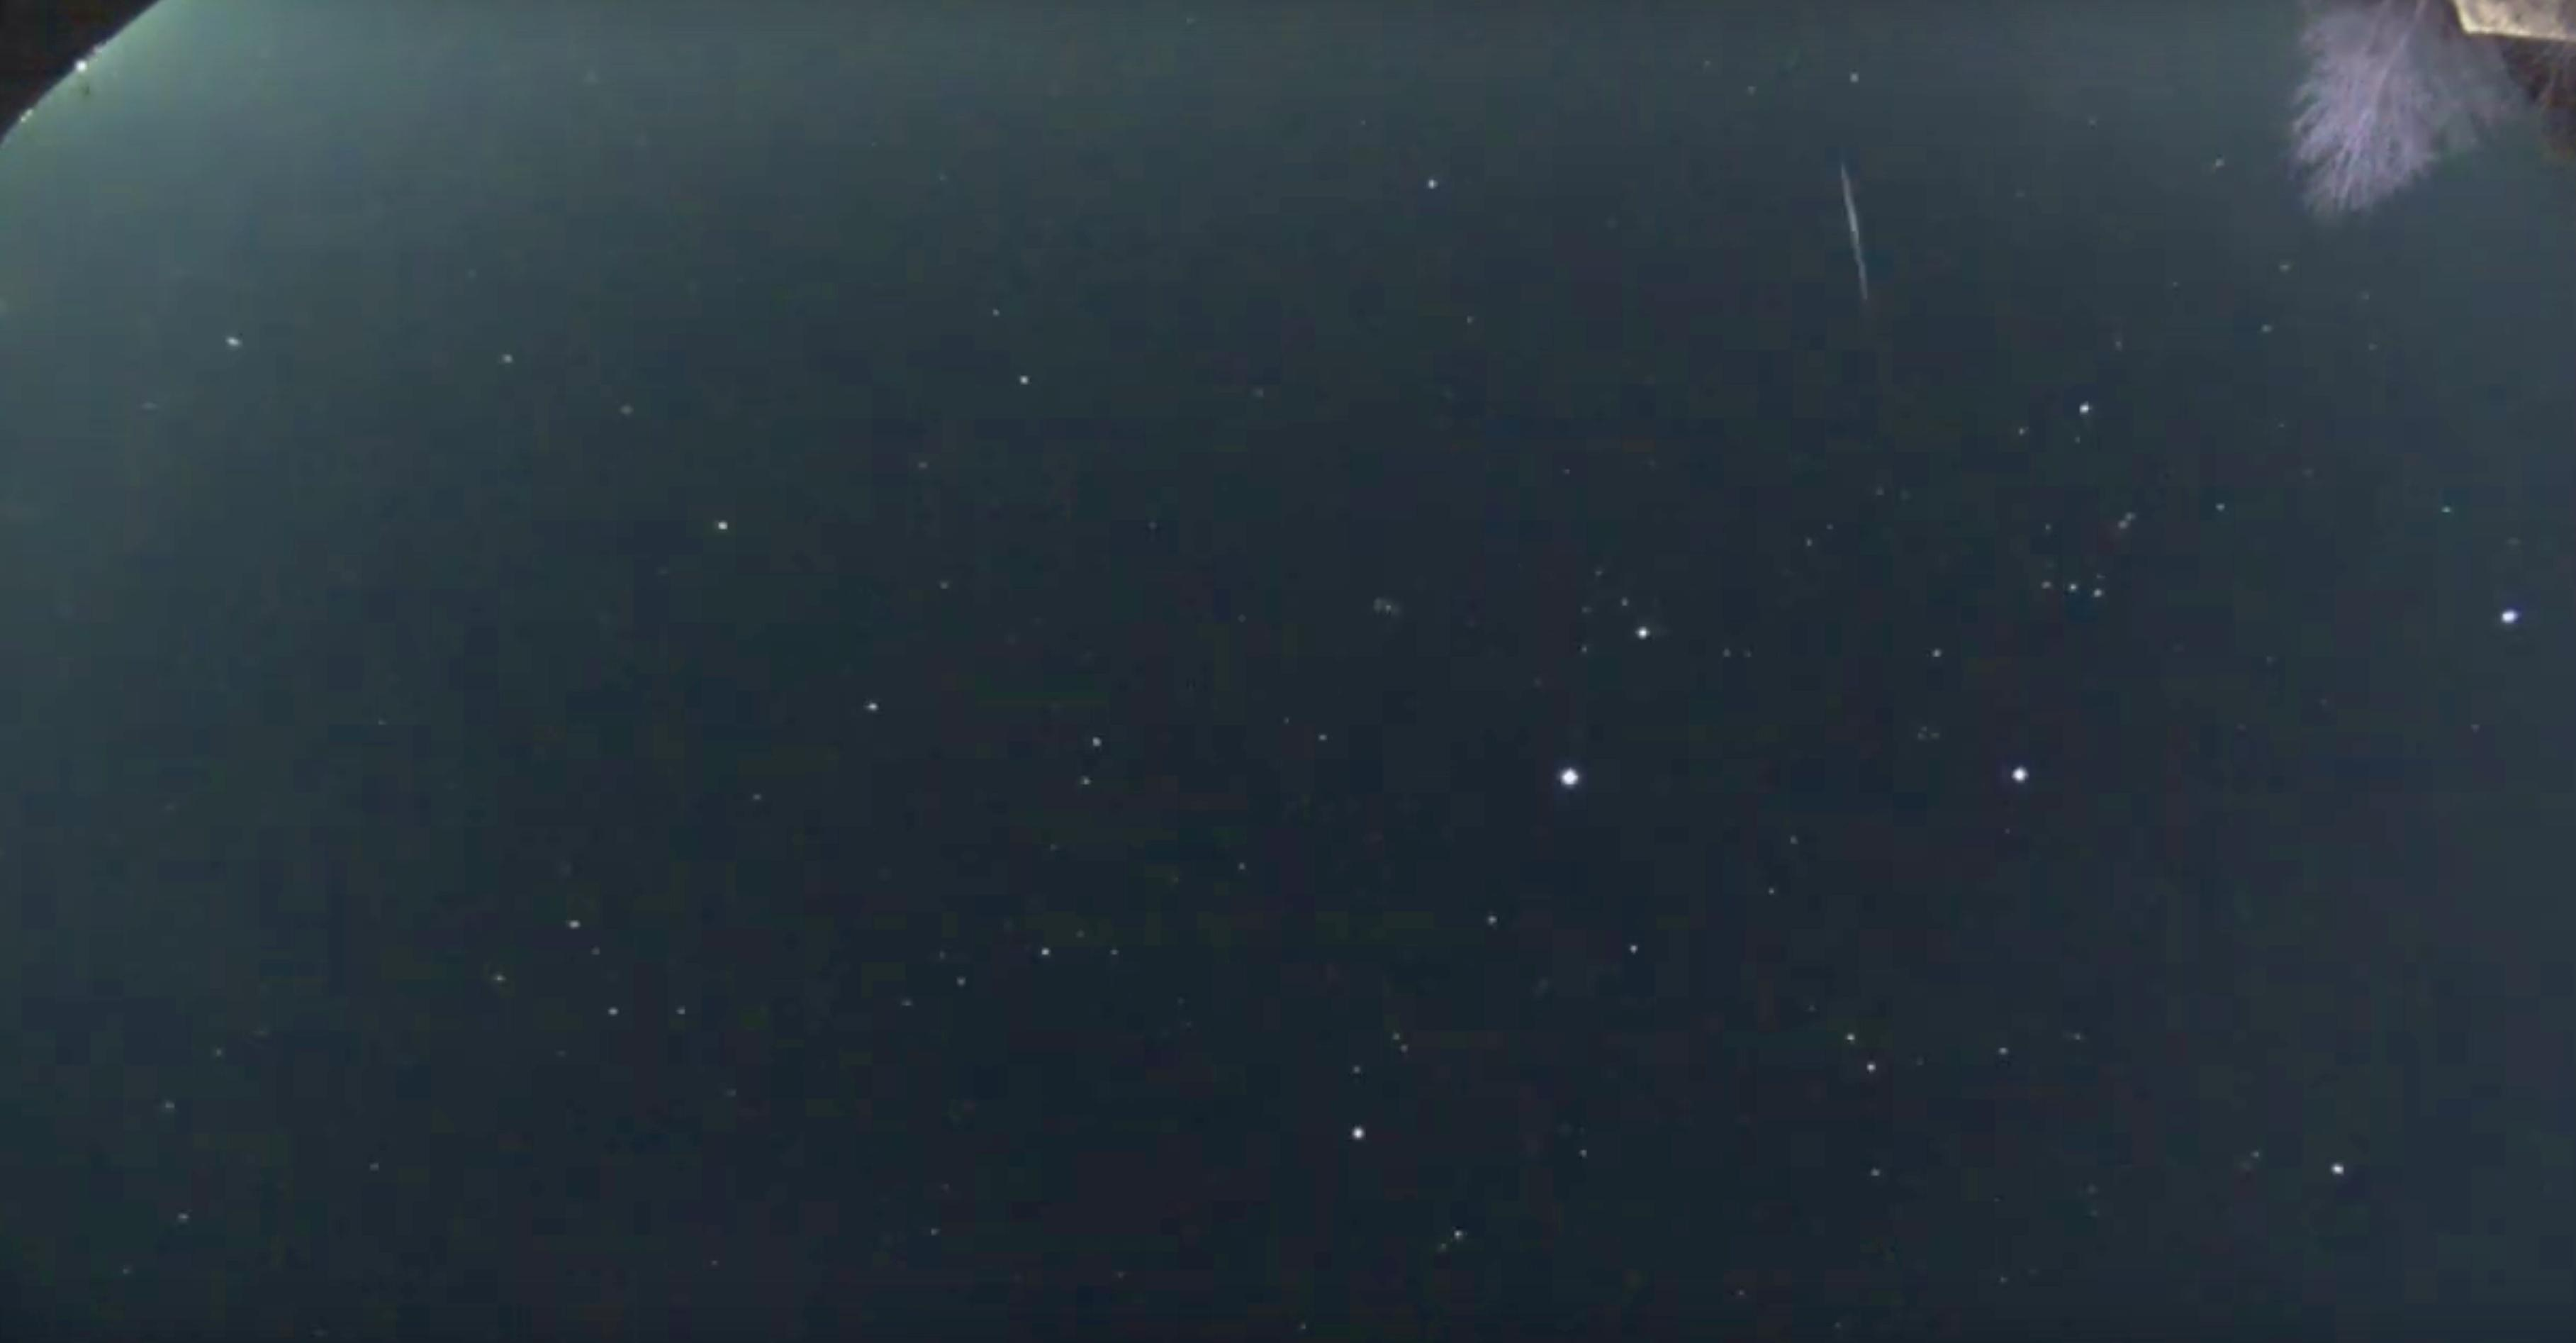meteorite: (1803, 159, 1903, 322)
